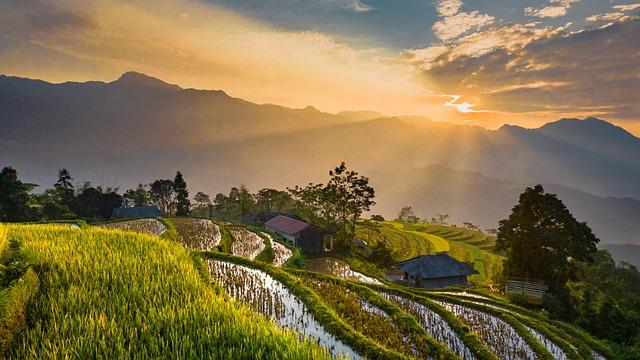Non_Gorille: (25, 16, 614, 351)
